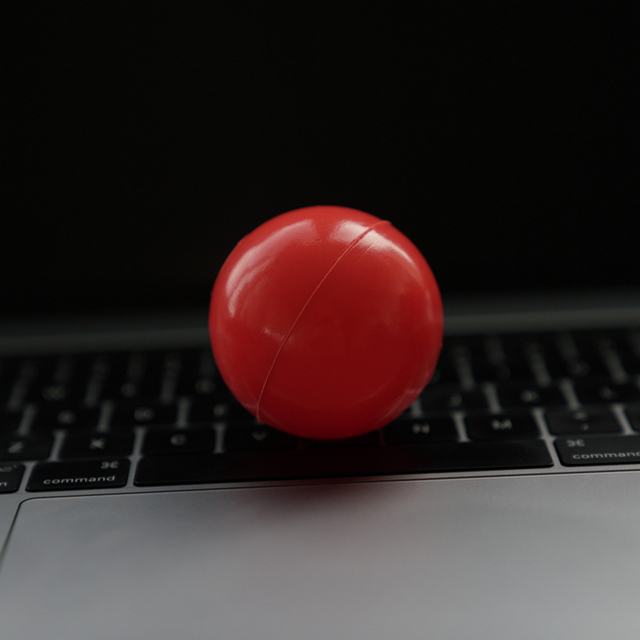Ball: (209, 206, 441, 436)
